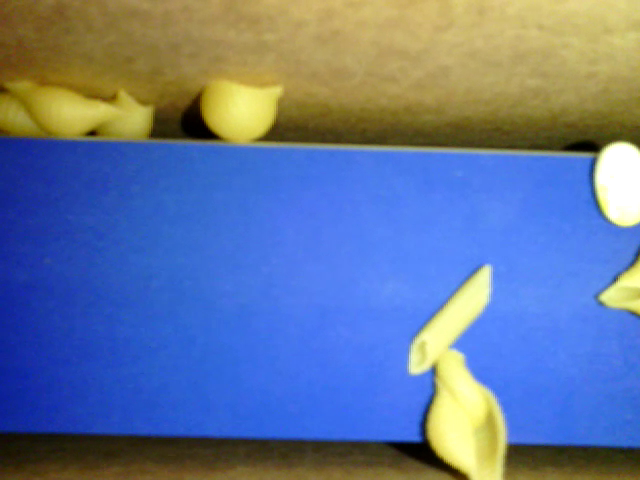elbow: (433, 347, 489, 428)
penne: (407, 260, 490, 378)
shell: (425, 371, 504, 479), (1, 78, 126, 139), (202, 73, 280, 146), (589, 247, 639, 317), (1, 92, 63, 139), (97, 90, 156, 137)
